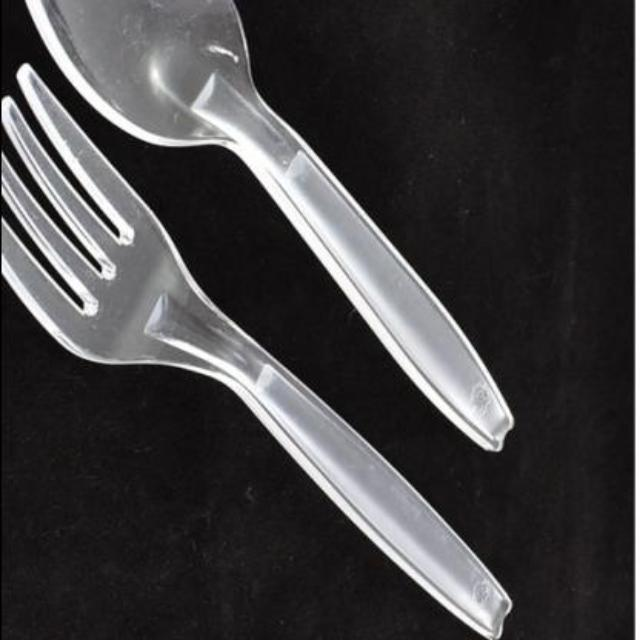plastic_box: (1, 0, 511, 638)
